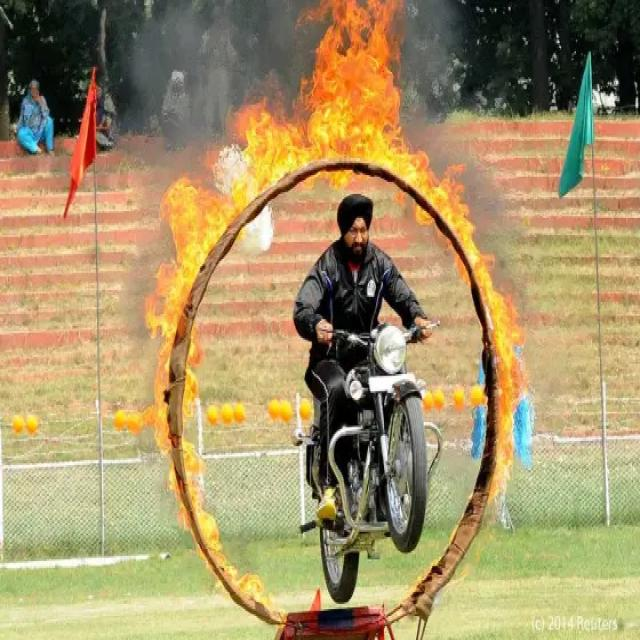fire: (292, 0, 401, 185), (484, 290, 528, 502), (162, 176, 244, 270), (154, 353, 206, 498), (403, 143, 466, 224), (147, 271, 197, 349), (246, 108, 293, 188), (227, 564, 277, 615), (177, 497, 222, 552), (447, 224, 479, 269), (471, 251, 495, 303)
